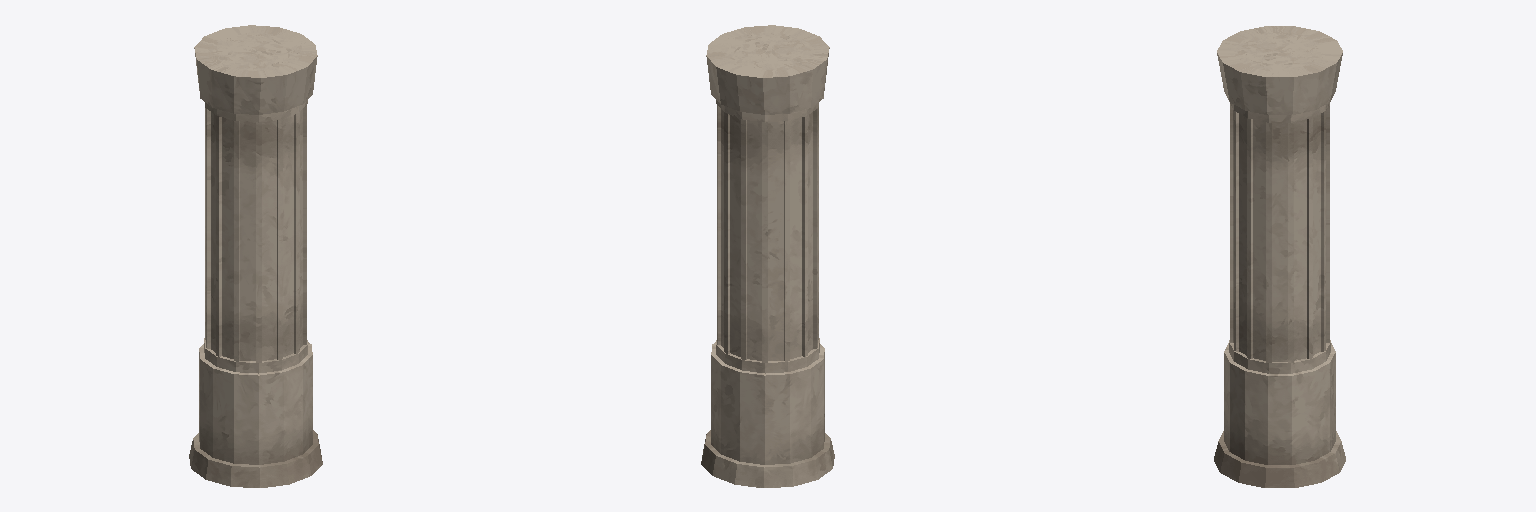
3 renders of one model, left to right at view 1: azimuth 30°, elevation 25°; view 2: azimuth 150°, elevation 25°; view 3: azimuth 270°, elevation 25°, orthographic.
Parts seen in each view (by area): view 1: Cylinder.021; view 2: Cylinder.021; view 3: Cylinder.021.
Boxes of the visible parts, x1=… form: Cylinder.021: x1=189, y1=25, x2=322, y2=487; Cylinder.021: x1=701, y1=25, x2=834, y2=487; Cylinder.021: x1=1214, y1=26, x2=1345, y2=487.
Bounding box in the file's own units: 6.2 × 21 × 6.2.
Materials: 1 (1 with a texture image).